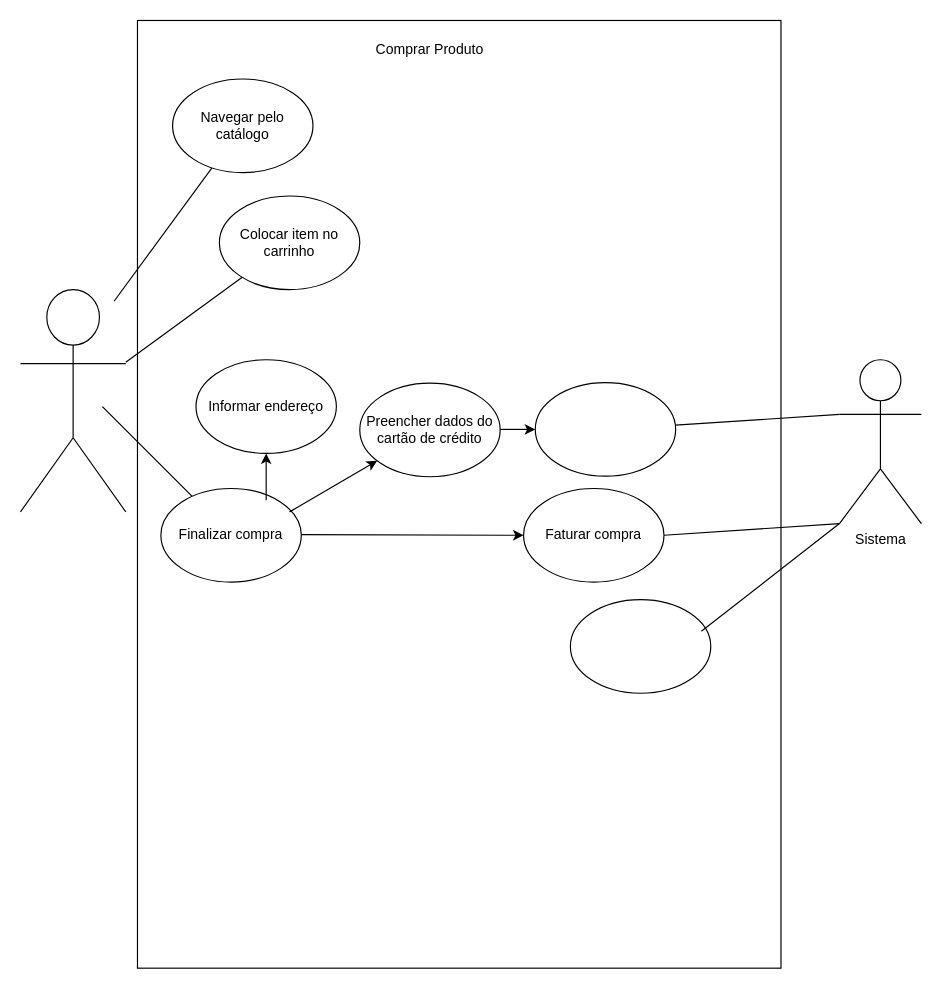
Some shapes in this 942 by 989 pixel diagram are drawn without their labels. Here are the shapes that lost their labels. From the top down, the box of each, then its label:
(19, 288, 126, 512): Cliente
(534, 381, 676, 476): Verificar dados do cartão de crédito
(569, 598, 711, 693): Enviar e-mail
